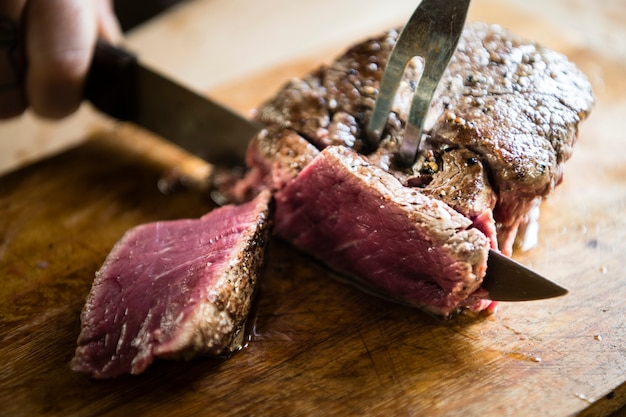knife: (84, 38, 570, 303)
